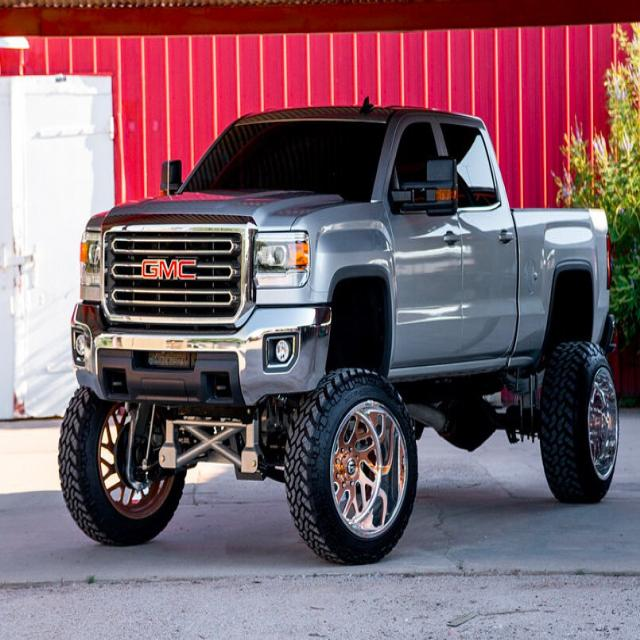truck: (57, 67, 628, 587)
